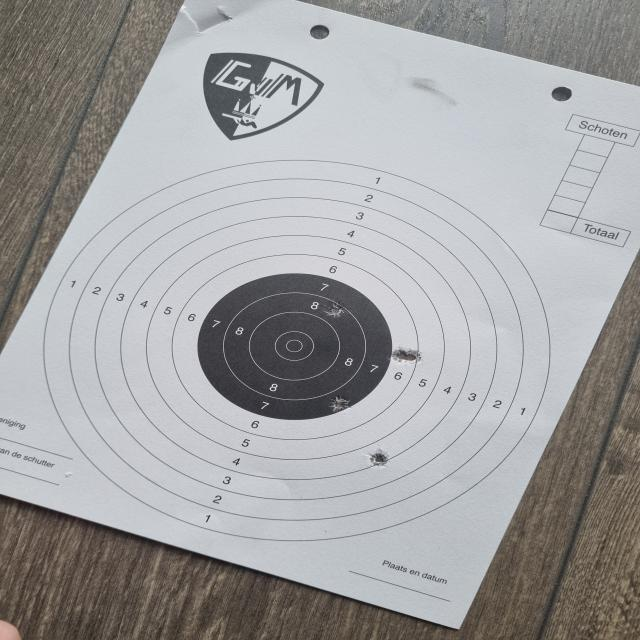4: (365, 449, 390, 468)
6: (404, 349, 421, 364)
7: (328, 396, 352, 412), (388, 348, 404, 364)
8: (321, 301, 348, 317)
Target: (44, 160, 552, 542)
black_contour: (198, 273, 392, 420)
